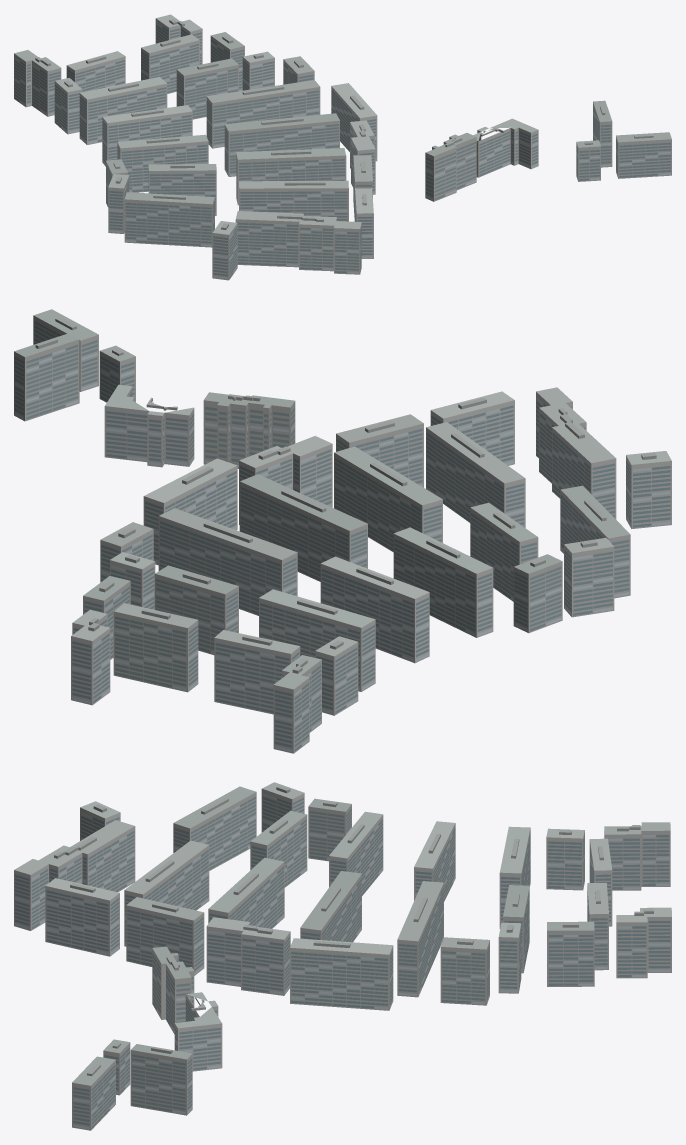
Rendered from apt-a15603006.glb.
3 renders of one model, top to bottom at view 1: azimuth 30°, elevation 25°; view 2: azimuth 150°, elevation 25°; view 3: azimuth 270°, elevation 25°, orthographic. The views are drawn at different scales.
Parts seen in each view (by area): view 1: apt-a15603006; view 2: apt-a15603006; view 3: apt-a15603006.
Boxes of the visible parts, x1,y1,x2,y2 form: apt-a15603006: (14,14,671,280); apt-a15603006: (14,309,671,753); apt-a15603006: (14,782,671,1130).
Size of the model in its own units: 427 by 40 by 406.
